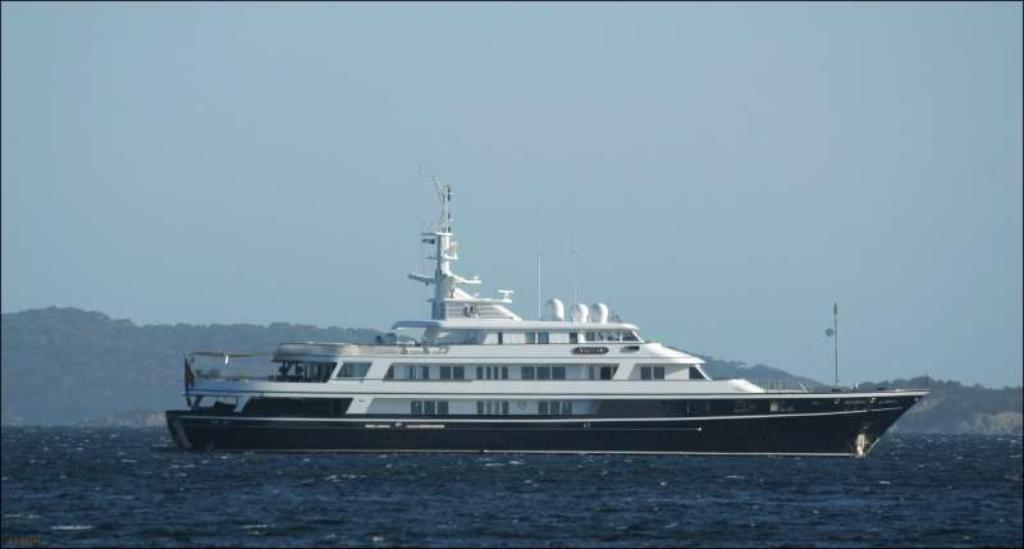PassengerShip: (160, 173, 936, 456)
